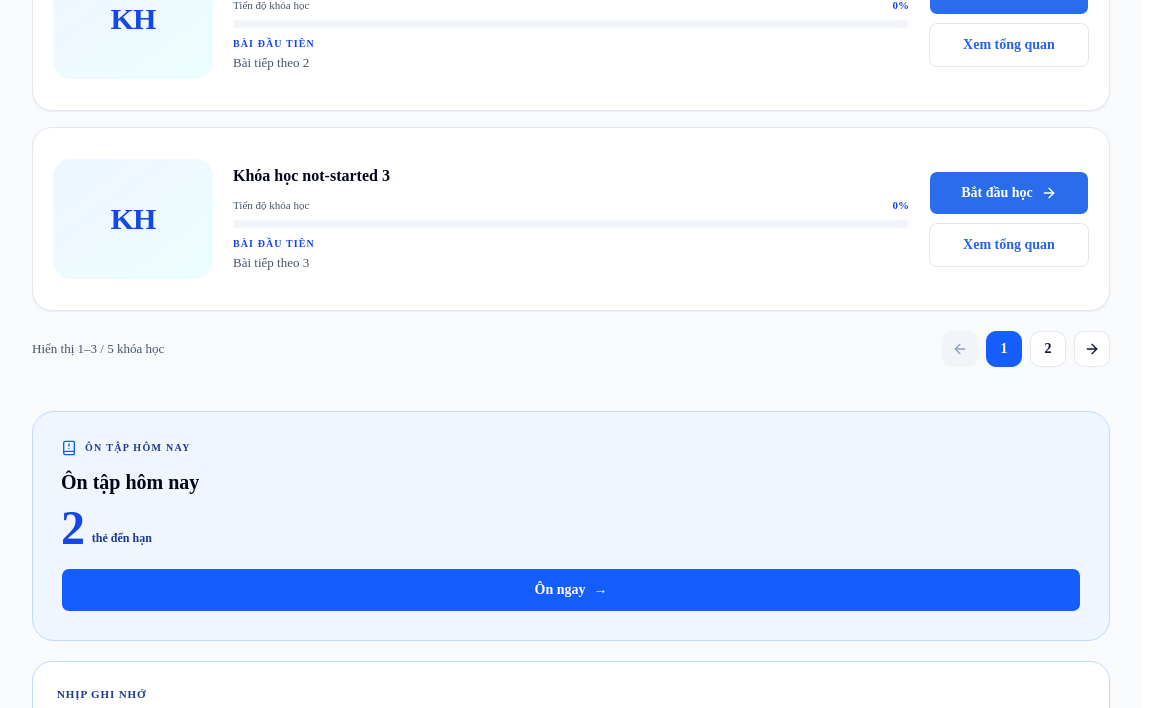
Test: LearnDashboardClient course interactions › moves next and previous with correct disabled and aria-current states
(page scrolled)
Expected: the button named "Trang trước" is disabled, x1=942 y1=330 x2=978 y2=366
Click the button named "Trang sau" at (1092, 348), box x1=1074 y1=330 x2=1110 y2=366
(page scrolled)
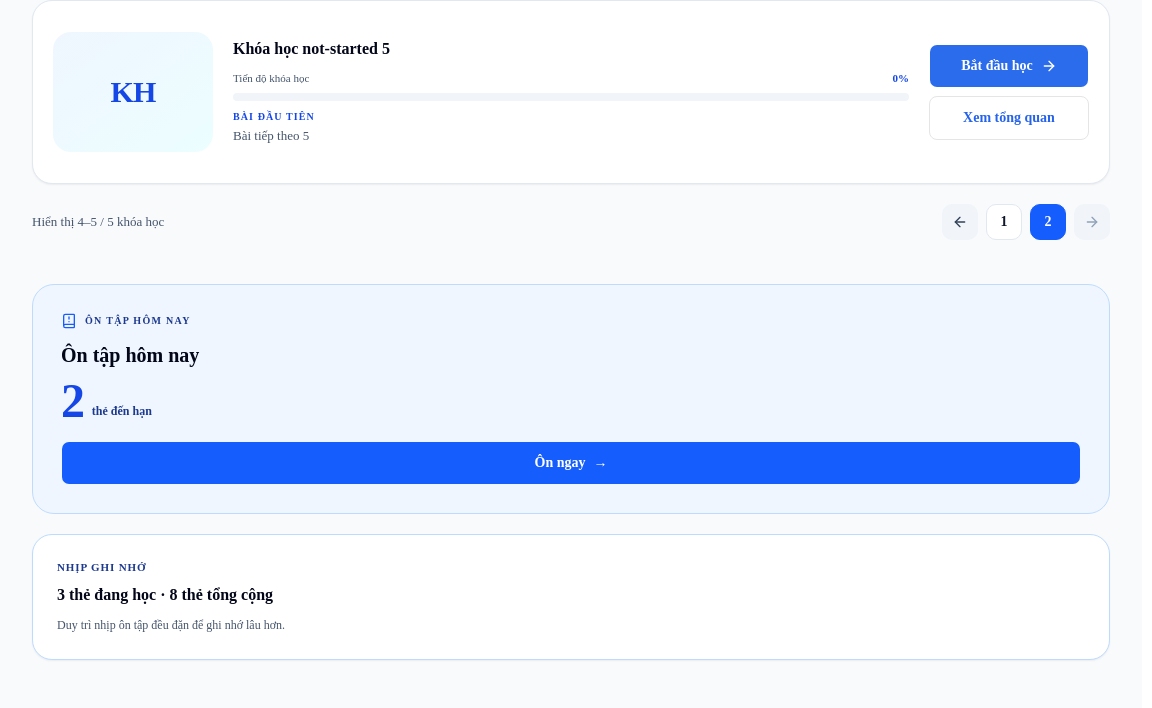
Expected: the button named "Trang trước" is enabled
Expected: the button named "Trang sau" is disabled, x1=1074 y1=204 x2=1110 y2=240
Click the button named "Trang trước" at (960, 222), box x1=942 y1=204 x2=978 y2=240
(page scrolled)
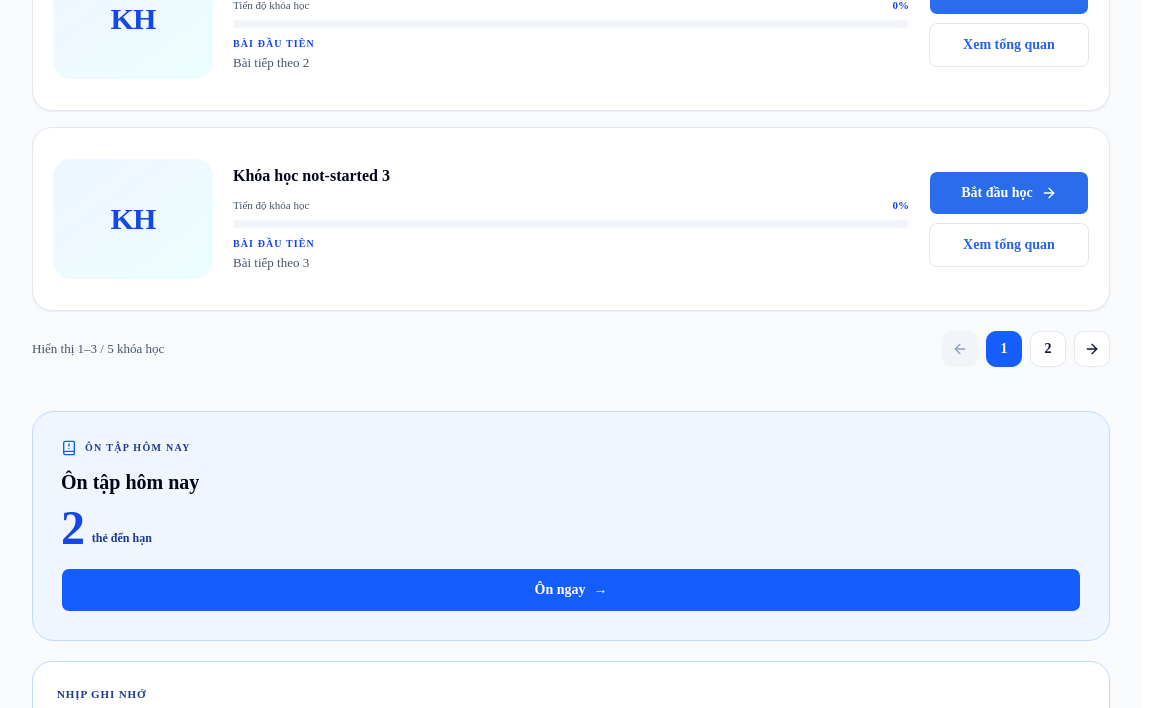
Expected: the button named "Trang trước" is disabled, x1=942 y1=330 x2=978 y2=366
Expected: the button named "Trang sau" is enabled, x1=1074 y1=330 x2=1110 y2=366
